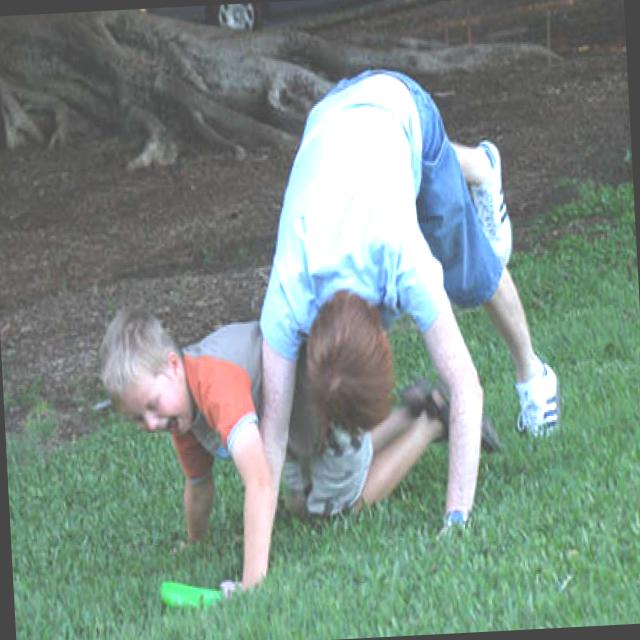Vehicle: (138, 0, 536, 37)
